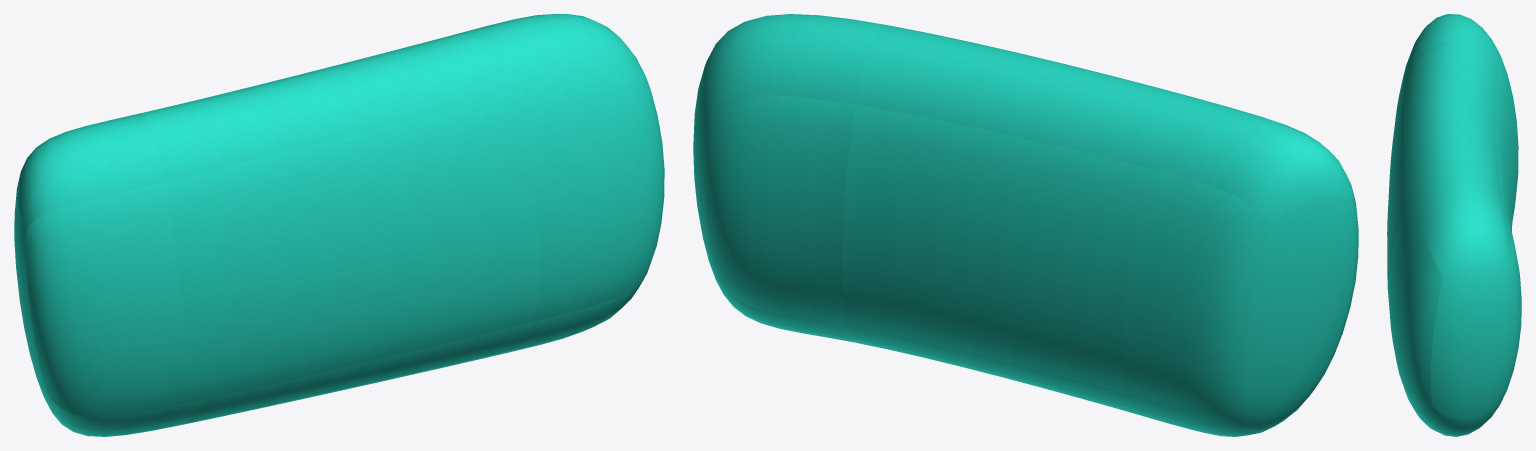
3 views of the same model, side by side, from view 1: azimuth 30°, elevation 25°; view 2: azimuth 150°, elevation 25°; view 3: azimuth 270°, elevation 25° (orthographic). The views are drawn at different scales.
Bounding box in the file's own units: 1 × 0.4751 × 0.2451.
Materials: 1 (1 with a texture image).
